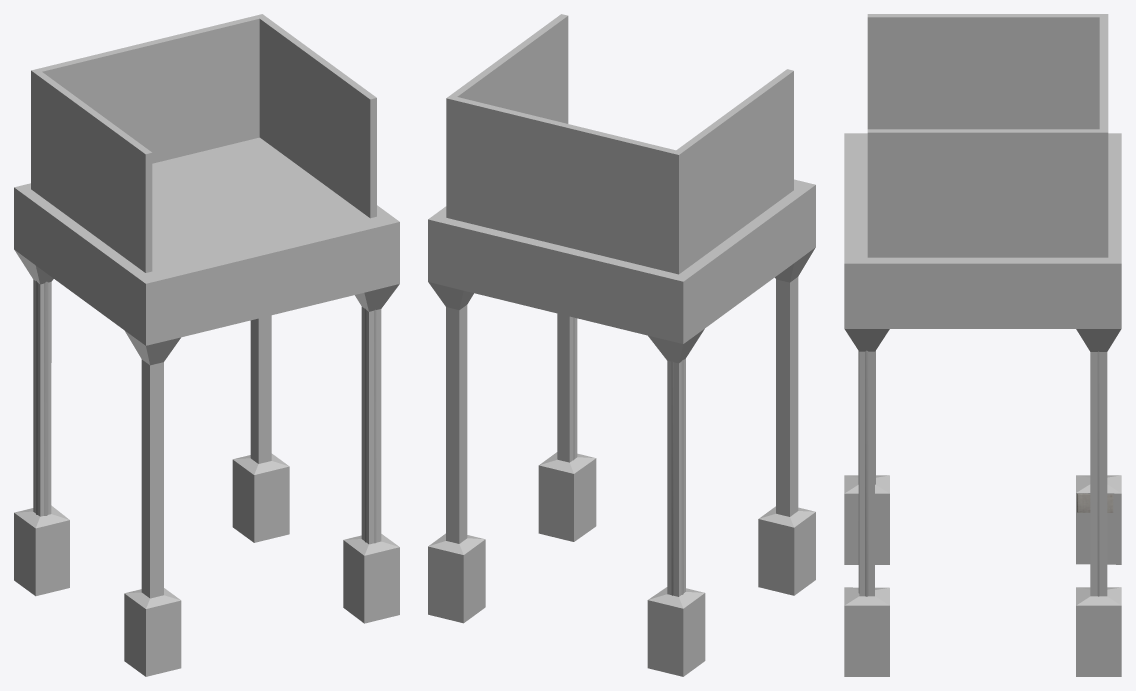
File: s_stairs_02.dae
3 views of the same model, side by side, from view 1: azimuth 30°, elevation 25°; view 2: azimuth 150°, elevation 25°; view 3: azimuth 270°, elevation 25° (orthographic). The views are drawn at different scales.
Visible parts, largest first — view 1: Colmesh_s_stairs_02-1, s_stairs_02_L80; view 2: Colmesh_s_stairs_02-1, s_stairs_02_L80; view 3: Colmesh_s_stairs_02-1, s_stairs_02_L80.
Boxes of the visible parts, left/top/right/bottom form: Colmesh_s_stairs_02-1: left=14, top=14, right=399, bottom=676; s_stairs_02_L80: left=35, top=281, right=376, bottom=543; Colmesh_s_stairs_02-1: left=428, top=14, right=815, bottom=676; s_stairs_02_L80: left=573, top=317, right=683, bottom=595; Colmesh_s_stairs_02-1: left=844, top=14, right=1121, bottom=676; s_stairs_02_L80: left=858, top=350, right=1099, bottom=596.
Bounding box in the file's own units: 1.92 × 1.73 × 3.7.
